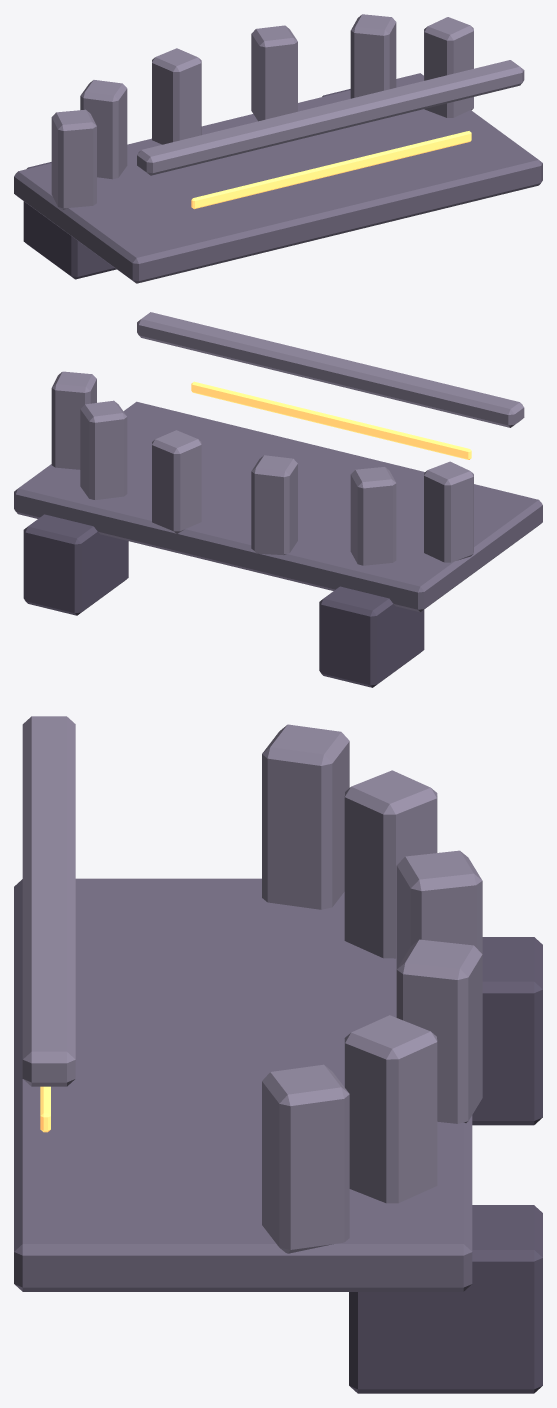
The model's file is ember_balcony.glb.
3 renders of one model, top to bottom at view 1: azimuth 30°, elevation 25°; view 2: azimuth 150°, elevation 25°; view 3: azimuth 270°, elevation 25°, orthographic. The views are drawn at different scales.
Visible parts, largest first — view 1: ember_balcony.001; view 2: ember_balcony.001; view 3: ember_balcony.001.
Boxes of the visible parts, x1=… form: ember_balcony.001: x1=14, y1=14, x2=542, y2=283; ember_balcony.001: x1=14, y1=312, x2=542, y2=687; ember_balcony.001: x1=14, y1=716, x2=542, y2=1393.
Bounding box in the file's own units: 5.06 × 2.21 × 3.
